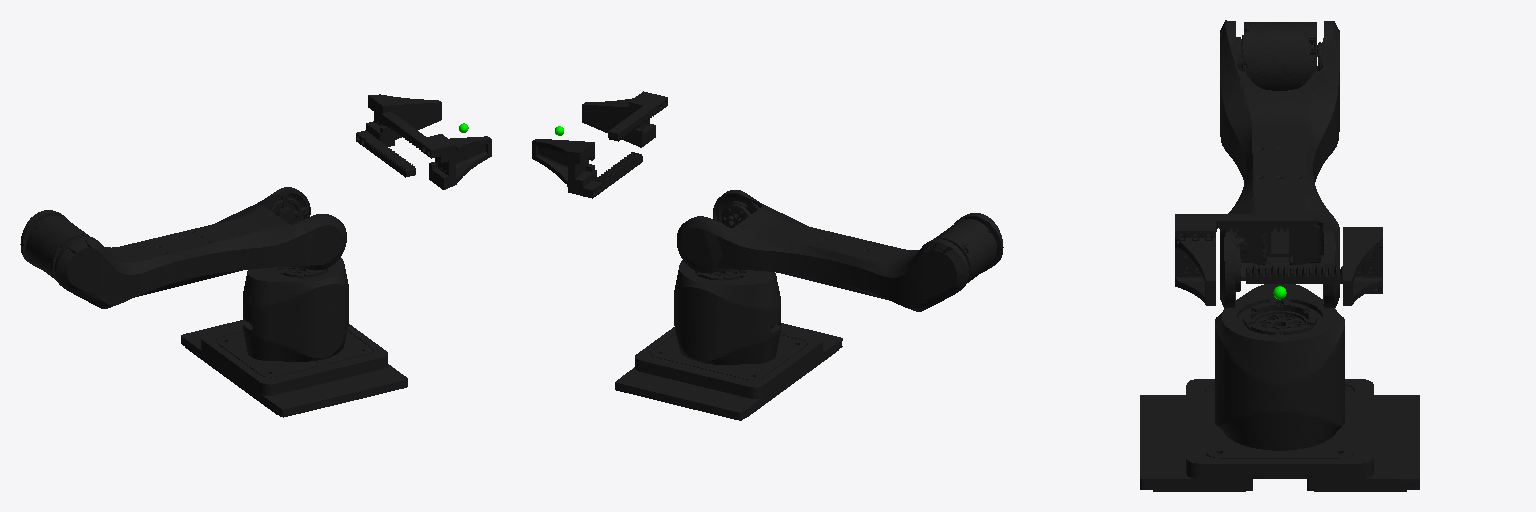
The robot description file, URDF, robot "alicia_m_v1_1_follower":
<?xml version="1.0" encoding="utf-8"?>
<!-- This URDF was automatically created by SolidWorks to URDF Exporter! Originally created by [author] ([email redacted]) 
     Commit Version: 1.6.0-4-g7f85cfe  Build Version: 1.6.7995.38578
     For more information, please see http://wiki.ros.org/sw_urdf_exporter -->
<robot
  name="alicia_m_v1_1_follower">
   <mujoco>
    <compiler meshdir="../../meshes/Alicia_M_v1_1/follower" discardvisual="false" />
  </mujoco>
  <link
    name="base_link">
    <inertial>
      <origin
        xyz="-0.0074155 8.4202E-06 0.038118"
        rpy="0 0 0" />
      <mass
        value="2.5385" />
      <inertia
        ixx="0.0058527"
        ixy="2.114E-07"
        ixz="1.4479E-06"
        iyy="0.0045151"
        iyz="3.0868E-08"
        izz="0.0084155" />
    </inertial>
    <visual>
      <origin
        xyz="0 0 0"
        rpy="0 0 0" />
      <geometry>
        <mesh
          filename="package://alicia_m_descriptions/meshes/Alicia_M_v1_1/follower/base_link.STL" />
      </geometry>
      <material
        name="">
        <color
          rgba="0.15 0.15 0.15 1" />
      </material>
    </visual>
    <collision>
      <origin
        xyz="0 0 0"
        rpy="0 0 0" />
      <geometry>
        <mesh
          filename="package://alicia_m_descriptions/meshes/Alicia_M_v1_1/follower/base_link.STL" />
      </geometry>
    </collision>
  </link>
  <link
    name="link1">
    <inertial>
      <origin
        xyz="0.00037898 -0.0010139 0.039387"
        rpy="0 0 0" />
      <mass
        value="0.54365" />
      <inertia
        ixx="0.00018974"
        ixy="-3.0439E-07"
        ixz="-2.5092E-07"
        iyy="0.00022251"
        iyz="4.4259E-07"
        izz="0.0002033" />
    </inertial>
    <visual>
      <origin
        xyz="0 0 0"
        rpy="0 0 0" />
      <geometry>
        <mesh
          filename="package://alicia_m_descriptions/meshes/Alicia_M_v1_1/follower/link1.STL" />
      </geometry>
      <material
        name="">
        <color
          rgba="0.15 0.15 0.15 1" />
      </material>
    </visual>
    <collision>
      <origin
        xyz="0 0 0"
        rpy="0 0 0" />
      <geometry>
        <mesh
          filename="package://alicia_m_descriptions/meshes/Alicia_M_v1_1/follower/link1.STL" />
      </geometry>
    </collision>
  </link>
  <joint
    name="joint1"
    type="revolute">
    <origin
      xyz="0 0 0.10705"
      rpy="0 0 0" />
    <parent
      link="base_link" />
    <child
      link="link1" />
    <axis
      xyz="0 0 1" />
    <limit
      lower="-2.75"
      upper="2.75"
      effort="5"
      velocity="10" />
  </joint>
  <link
    name="link2">
    <inertial>
      <origin
        xyz="-0.19722 0.016179 0.00075589"
        rpy="0 0 0" />
      <mass
        value="1.1153" />
      <inertia
        ixx="0.00057637"
        ixy="0.00022961"
        ixz="-1.956E-07"
        iyy="0.0033441"
        iyz="6.7003E-07"
        izz="0.0032279" />
    </inertial>
    <visual>
      <origin
        xyz="0 0 0"
        rpy="0 0 0" />
      <geometry>
        <mesh
          filename="package://alicia_m_descriptions/meshes/Alicia_M_v1_1/follower/link2.STL" />
      </geometry>
      <material
        name="">
        <color
          rgba="0.15 0.15 0.15 1" />
      </material>
    </visual>
    <collision>
      <origin
        xyz="0 0 0"
        rpy="0 0 0" />
      <geometry>
        <mesh
          filename="package://alicia_m_descriptions/meshes/Alicia_M_v1_1/follower/link2.STL" />
      </geometry>
    </collision>
  </link>
  <joint
    name="joint2"
    type="revolute">
    <origin
      xyz="0 0 0.046"
      rpy="1.5708 0 0" />
    <parent
      link="link1" />
    <child
      link="link2" />
    <axis
      xyz="0 0 1" />
    <limit
      lower="-3.14"
      upper="0"
      effort="5"
      velocity="10" />
  </joint>
  <link
    name="link3">
    <inertial>
      <origin
        xyz="0.026259 -0.064912 -0.00065987"
        rpy="0 0 0" />
      <mass
        value="0.4356" />
      <inertia
        ixx="0.00012982"
        ixy="9.5271E-06"
        ixz="-6.8812E-08"
        iyy="0.0001789"
        iyz="1.5081E-07"
        izz="0.00014855" />
    </inertial>
    <visual>
      <origin
        xyz="0 0 0"
        rpy="0 0 0" />
      <geometry>
        <mesh
          filename="package://alicia_m_descriptions/meshes/Alicia_M_v1_1/follower/link3.STL" />
      </geometry>
      <material
        name="">
        <color
          rgba="0.15 0.15 0.15 1" />
      </material>
    </visual>
    <collision>
      <origin
        xyz="0 0 0"
        rpy="0 0 0" />
      <geometry>
        <mesh
          filename="package://alicia_m_descriptions/meshes/Alicia_M_v1_1/follower/link3.STL" />
      </geometry>
    </collision>
  </link>
  <joint
    name="joint3"
    type="revolute">
    <origin
      xyz="-0.28185 0.040324 0"
      rpy="0 0 1.5708" />
    <parent
      link="link2" />
    <child
      link="link3" />
    <axis
      xyz="0 0 -1" />
    <limit
      lower="-3.14"
      upper="0"
      effort="5"
      velocity="10" />
  </joint>
  <link
    name="link4">
    <inertial>
      <origin
        xyz="3.9183E-06 0.001144 0.11644"
        rpy="0 0 0" />
      <mass
        value="0.57265" />
      <inertia
        ixx="0.00034557"
        ixy="-1.3549E-07"
        ixz="-1.4243E-09"
        iyy="0.00037178"
        iyz="-7.3926E-08"
        izz="0.00019935" />
    </inertial>
    <visual>
      <origin
        xyz="0 0 0"
        rpy="0 0 0" />
      <geometry>
        <mesh
          filename="package://alicia_m_descriptions/meshes/Alicia_M_v1_1/follower/link4.STL" />
      </geometry>
      <material
        name="">
        <color
          rgba="0.15 0.15 0.15 1" />
      </material>
    </visual>
    <collision>
      <origin
        xyz="0 0 0"
        rpy="0 0 0" />
      <geometry>
        <mesh
          filename="package://alicia_m_descriptions/meshes/Alicia_M_v1_1/follower/link4.STL" />
      </geometry>
    </collision>
  </link>
  <joint
    name="joint4"
    type="revolute">
    <origin
      xyz="0.028563 -0.091416 0"
      rpy="-1.5708 0 -3.1412" />
    <parent
      link="link3" />
    <child
      link="link4" />
    <axis
      xyz="-0.00034722 0 1" />
    <limit
      lower="-1.57"
      upper="1.57"
      effort="5"
      velocity="10" />
  </joint>
  <link
    name="link5">
    <inertial>
      <origin
        xyz="-0.0001129 0.054381 0.0022373"
        rpy="0 0 0" />
      <mass
        value="0.38891" />
      <inertia
        ixx="0.00010415"
        ixy="-1.2554E-07"
        ixz="-1.4534E-07"
        iyy="0.0001484"
        iyz="5.2027E-08"
        izz="0.00011043" />
    </inertial>
    <visual>
      <origin
        xyz="0 0 0"
        rpy="0 0 0" />
      <geometry>
        <mesh
          filename="package://alicia_m_descriptions/meshes/Alicia_M_v1_1/follower/link5.STL" />
      </geometry>
      <material
        name="">
        <color
          rgba="0.15 0.15 0.15 1" />
      </material>
    </visual>
    <collision>
      <origin
        xyz="0 0 0"
        rpy="0 0 0" />
      <geometry>
        <mesh
          filename="package://alicia_m_descriptions/meshes/Alicia_M_v1_1/follower/link5.STL" />
      </geometry>
    </collision>
  </link>
  <joint
    name="joint5"
    type="revolute">
    <origin
      xyz="-8.0556E-05 0 0.151"
      rpy="1.5708 0.00034722 0" />
    <parent
      link="link4" />
    <child
      link="link5" />
    <axis
      xyz="0 0 1" />
    <limit
      lower="-1.57"
      upper="1.57"
      effort="5"
      velocity="10" />
  </joint>
  <link
    name="link6">
    <inertial>
      <origin
        xyz="-0.00011097 -0.00066921 0.038228"
        rpy="0 0 0" />
      <mass
        value="0.35658" />
      <inertia
        ixx="0.00018353"
        ixy="5.0323E-08"
        ixz="-1.1884E-07"
        iyy="9.5615E-05"
        iyz="-1.2974E-08"
        izz="0.00021713" />
    </inertial>
    <visual>
      <origin
        xyz="0 0 0"
        rpy="0 0 0" />
      <geometry>
        <mesh
          filename="package://alicia_m_descriptions/meshes/Alicia_M_v1_1/follower/link6.STL" />
      </geometry>
      <material
        name="">
        <color
          rgba="0.15 0.15 0.15 1" />
      </material>
    </visual>
    <collision>
      <origin
        xyz="0 0 0"
        rpy="0 0 0" />
      <geometry>
        <mesh
          filename="package://alicia_m_descriptions/meshes/Alicia_M_v1_1/follower/link6.STL" />
      </geometry>
    </collision>
  </link>
  <joint
    name="joint6"
    type="revolute">
    <origin
      xyz="5.2431E-05 0.081 0"
      rpy="-1.5708 0 0.00034722" />
    <parent
      link="link5" />
    <child
      link="link6" />
    <axis
      xyz="-0.00034722 0 1" />
    <limit
      lower="-2.75"
      upper="2.75"
      effort="5"
      velocity="10" />
  </joint>
  <link
    name="link7">
    <inertial>
      <origin
        xyz="-0.0062638 -0.056089 0.0037593"
        rpy="0 0 0" />
      <mass
        value="0.048674" />
      <inertia
        ixx="2.5291E-05"
        ixy="-1.0647E-06"
        ixz="1.8963E-07"
        iyy="1.9457E-05"
        iyz="2.7404E-06"
        izz="1.9529E-05" />
    </inertial>
    <visual>
      <origin
        xyz="0 0 0"
        rpy="0 0 0" />
      <geometry>
        <mesh
          filename="package://alicia_m_descriptions/meshes/Alicia_M_v1_1/follower/link7.STL" />
      </geometry>
      <material
        name="">
        <color
          rgba="0.15 0.15 0.15 1" />
      </material>
    </visual>
    <collision>
      <origin
        xyz="0 0 0"
        rpy="0 0 0" />
      <geometry>
        <mesh
          filename="package://alicia_m_descriptions/meshes/Alicia_M_v1_1/follower/link7.STL" />
      </geometry>
    </collision>
  </link>
  <joint
    name="left_finger"
    type="prismatic">
    <origin
      xyz="0 -0.048175 0.151"
      rpy="1.5708 0.00034722 0" />
    <parent
      link="link6" />
    <child
      link="link7" />
    <axis
      xyz="0 0 1" />
    <limit
      lower="-0.05"
      upper="0.0"
      effort="5"
      velocity="10" />
  </joint>
  <link
    name="link8">
    <inertial>
      <origin
        xyz="0.0062638 -0.056089 -0.0037593"
        rpy="0 0 0" />
      <mass
        value="0.048674" />
      <inertia
        ixx="2.5291E-05"
        ixy="1.0647E-06"
        ixz="1.8963E-07"
        iyy="1.9457E-05"
        iyz="-2.7404E-06"
        izz="1.9529E-05" />
    </inertial>
    <visual>
      <origin
        xyz="0 0 0"
        rpy="0 0 0" />
      <geometry>
        <mesh
          filename="package://alicia_m_descriptions/meshes/Alicia_M_v1_1/follower/link8.STL" />
      </geometry>
      <material
        name="">
        <color
          rgba="0.15 0.15 0.15 1" />
      </material>
    </visual>
    <collision>
      <origin
        xyz="0 0 0"
        rpy="0 0 0" />
      <geometry>
        <mesh
          filename="package://alicia_m_descriptions/meshes/Alicia_M_v1_1/follower/link8.STL" />
      </geometry>
    </collision>
  </link>
  <joint
    name="right_finger"
    type="prismatic">
    <origin
      xyz="0 0.046825 0.151"
      rpy="1.5708 0.00034722 0" />
    <parent
      link="link6" />
    <child
      link="link8" />
    <axis
      xyz="0 0 1" />
    <limit
      lower="0.0"
      upper="0.05"
      effort="5"
      velocity="10" />
    <mimic joint="left_finger" multiplier="-1.0" offset="0" />
  </joint>
  <link
    name="tool0">
    <visual>
      <origin
        xyz="0 0 0"
        rpy="0 0 0" />
      <geometry>
        <sphere radius="0.005" />
      </geometry>
      <material
        name="green_virtual_sphere_material">
        <color
          rgba="0 1 0 1" />
      </material>
    </visual>
  </link>
  <joint
    name="tool0_fixed_joint"
    type="fixed">
    <origin
      xyz="0 0 0.15"
      rpy="0 0 0" />
    <parent
      link="link6" />
    <child
      link="tool0" />
    <axis
      xyz="0 0 0" />
  </joint>
</robot>

--- Render facts (derived) ---
3 views of the same robot in one strip: view 1: azimuth 30°, elevation 25°; view 2: azimuth 150°, elevation 25°; view 3: azimuth 270°, elevation 25° (orthographic).
Robot: alicia_m_v1_1_follower — 10 links, 9 joints (6 revolute, 2 prismatic, 1 fixed); root link base_link; default pose: all joints at 0.
Visible links, largest first — view 1: base_link, link2, link7, link8; view 2: base_link, link2, link8, link7; view 3: base_link, link2, link7, link8.
Boxes of the visible links, x1,y1,x2,y2 form: base_link: [181, 257, 407, 417]; link2: [20, 187, 346, 308]; link7: [381, 111, 491, 189]; link8: [356, 94, 441, 177]; base_link: [615, 260, 842, 420]; link2: [677, 190, 1003, 311]; link8: [532, 139, 642, 198]; link7: [582, 91, 667, 147]; base_link: [1140, 284, 1419, 491]; link2: [1220, 20, 1339, 308]; link7: [1175, 214, 1312, 305]; link8: [1246, 227, 1382, 305].
Bounding box of the posed robot: 0.5085 × 0.21 × 0.2481 m (x, y, z).
Meshes: 9 distinct files referenced, 4 mesh visuals loaded (4 binary STL); not drawn: 5 (reference not matched to a file when rendering).
